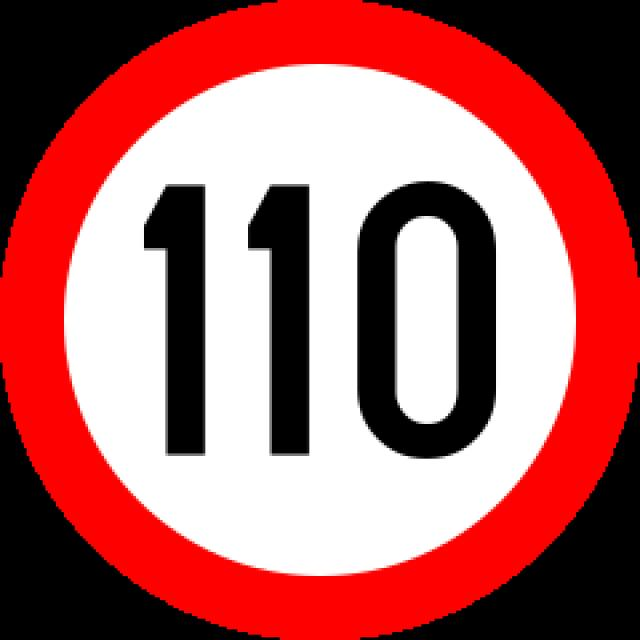Speed Limit -110-: (124, 162, 526, 467)
